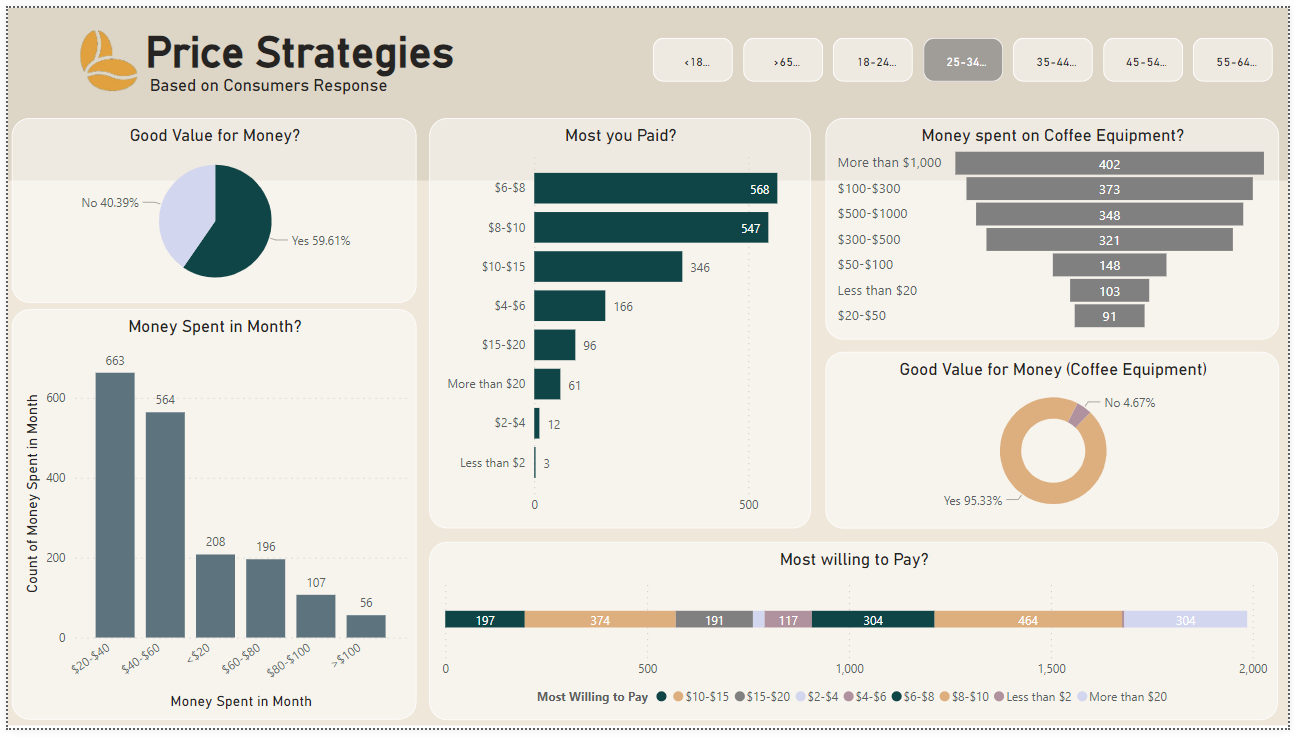

Layout of this report page (visuals, bound fields, positions):
{"tool":"powerbi","page":{"name":"Price Strategies","canvas":[1280,720],"ordinal":5},"visuals":[{"type":"textbox","box":[132.9,13.3,514.9,79.7],"z":0},{"type":"image","box":[59.1,17.7,83.7,70.9],"z":1000},{"type":"donutChart","title":"Good Value for Money (Coffee Equipment)","fields":{"Category":["Processed.Money Spent on Coffee Equipment (Value of Money)"],"Y":["CountNonNull(Processed.Money Spent on Coffee Equipment (Value of Money))"]},"box":[816.9,343.4,453.5,176.7],"z":2000},{"type":"barChart","title":"Most you Paid?","fields":{"Category":["Processed.Most You Paid"],"Y":["CountNonNull(Processed.Most You Paid)"]},"box":[421.8,110,381.8,410.1],"z":3000},{"type":"barChart","title":"Most willing to Pay?","fields":{"Y":["CountNonNull(Processed.Most Willing to Pay)"],"Series":["Processed.Most Willing to Pay"]},"box":[421.8,533.5,848.6,178.4],"z":4000},{"type":"pieChart","title":"Good Value for Money?","fields":{"Category":["Processed.Good Value for Money"],"Y":["CountNonNull(Processed.Good Value for Money)"]},"box":[3.3,110,405.1,185],"z":5000},{"type":"funnel","title":"Money spent on Coffee Equipment?","fields":{"Y":["CountNonNull(Processed.Money Spent on Coffee Equipment (Value of Money))"],"Category":["Processed.Money Spent on Coffee Equipment"]},"box":[816.9,110,453.5,221.7],"z":6000},{"type":"advancedSlicerVisual","title":"Coffee Consumption by Work Location","fields":{"Values":["Processed.Age"]},"box":[640,25.6,630.2,54.2],"z":7000},{"type":"clusteredColumnChart","title":"Money Spent in Month?","fields":{"Category":["Processed.Money Spent in Month"],"Y":["CountNonNull(Processed.Money Spent in Month)"]},"box":[3.3,301.7,405.1,410.1],"z":8000}]}

Visuals, with their boxes in screenshot pixels (x1, y1, x2, y2), scaled from the page's 1280x720 canvas onto the 1293x737 screenshot:
textbox: <bbox>134, 14, 654, 95</bbox>
image: <bbox>60, 18, 144, 91</bbox>
"Good Value for Money (Coffee Equipment)" donutChart: <bbox>825, 352, 1283, 532</bbox>
"Most you Paid?" barChart: <bbox>426, 113, 812, 532</bbox>
"Most willing to Pay?" barChart: <bbox>426, 546, 1283, 729</bbox>
"Good Value for Money?" pieChart: <bbox>3, 113, 413, 302</bbox>
"Money spent on Coffee Equipment?" funnel: <bbox>825, 113, 1283, 340</bbox>
"Coffee Consumption by Work Location" advancedSlicerVisual: <bbox>646, 26, 1283, 82</bbox>
"Money Spent in Month?" clusteredColumnChart: <bbox>3, 309, 413, 729</bbox>
